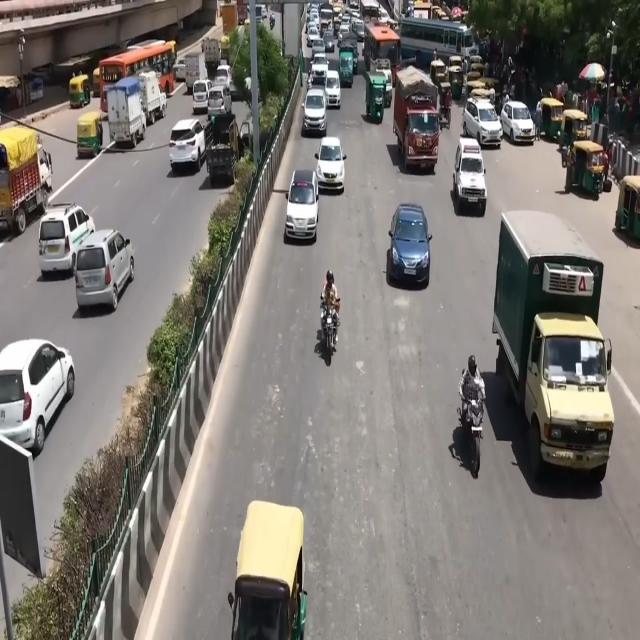auto: (229, 498, 307, 638), (566, 139, 608, 199), (76, 110, 104, 158), (560, 108, 590, 150), (539, 97, 565, 142), (69, 74, 90, 110), (430, 59, 448, 94), (447, 64, 464, 100)
bike-auto: (457, 375, 486, 477), (458, 356, 486, 432), (319, 290, 341, 360), (444, 87, 452, 125)
